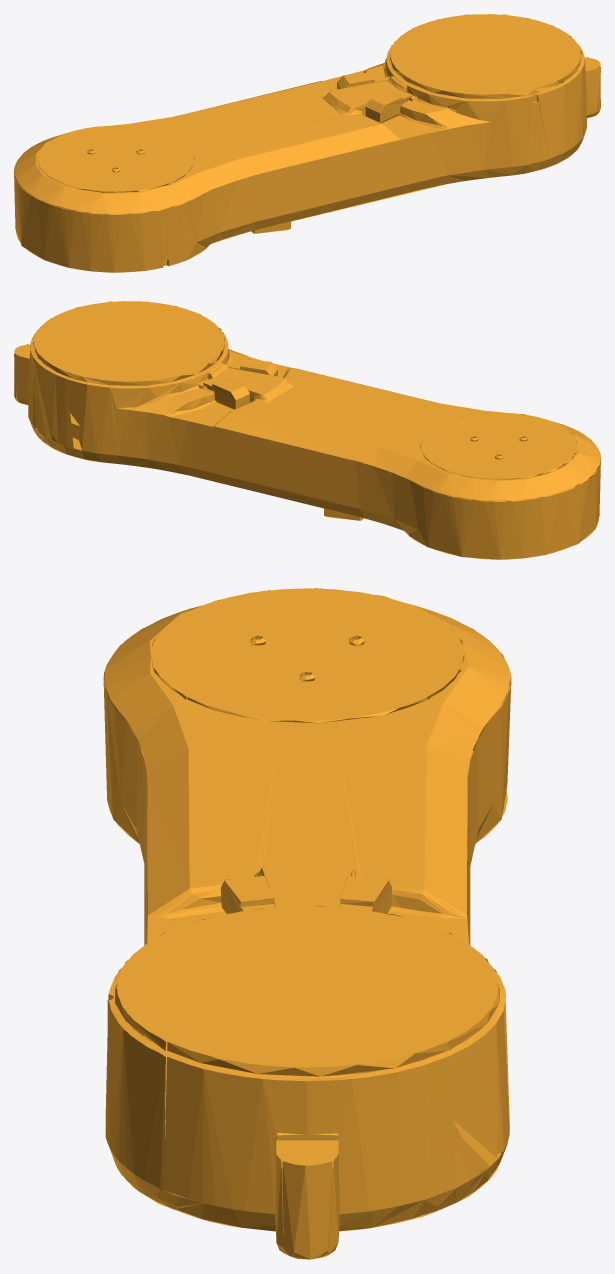
File: ABBIRB910SCLink1.dae
3 views of the same model, one above another, from view 1: azimuth 30°, elevation 25°; view 2: azimuth 150°, elevation 25°; view 3: azimuth 270°, elevation 25° (orthographic). The views are drawn at different scales.
Parts seen in each view (by area): view 1: IRB_910scLink1; view 2: IRB_910scLink1; view 3: IRB_910scLink1.
Part boxes in pixels (<box>): IRB_910scLink1: <box>14,14,600,272</box>; IRB_910scLink1: <box>14,301,600,559</box>; IRB_910scLink1: <box>103,588,511,1259</box>.
Size of the model in its own units: 0.4635 by 0.1432 by 0.0815.
